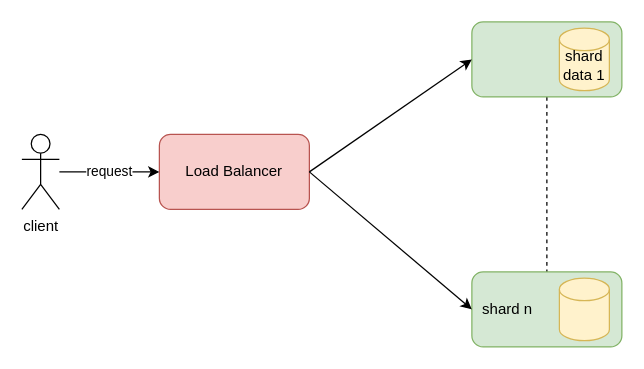
This 644x369 diagram has some shape labels left out. The box of each missing label's shape, as (x1, y1, x2, y2) in pixels:
shard 1: (471, 21, 622, 97)
shard data n: (558, 277, 609, 341)
